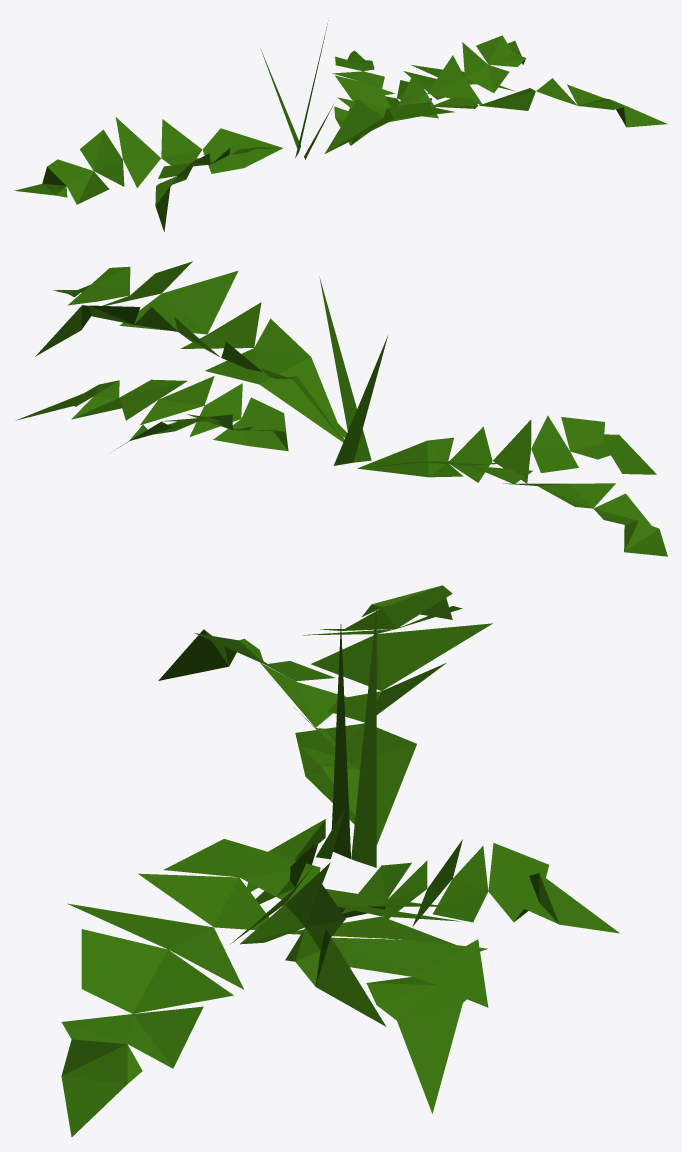
Rendered from obj_slashed_bush_2_0.obj.
3 renders of one model, top to bottom at view 1: azimuth 30°, elevation 25°; view 2: azimuth 150°, elevation 25°; view 3: azimuth 270°, elevation 25°, orthographic. The views are drawn at different scales.
Bounding box in the file's own units: 1.99 × 0.4922 × 0.8594.
